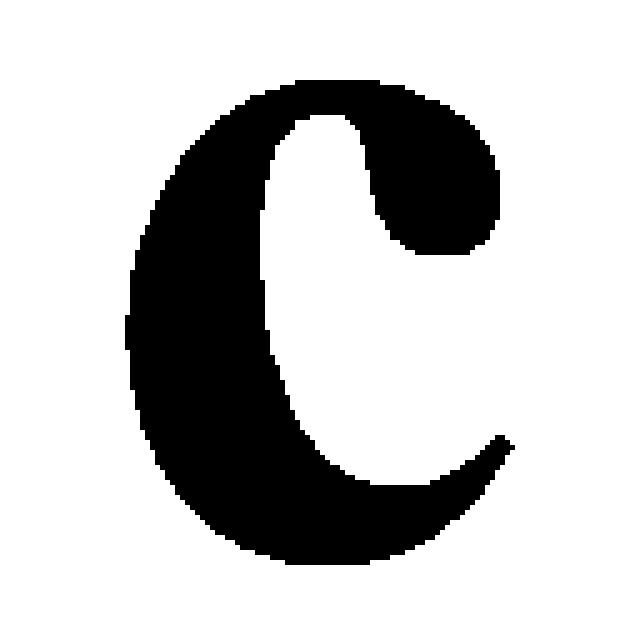C: (130, 80, 515, 565)
